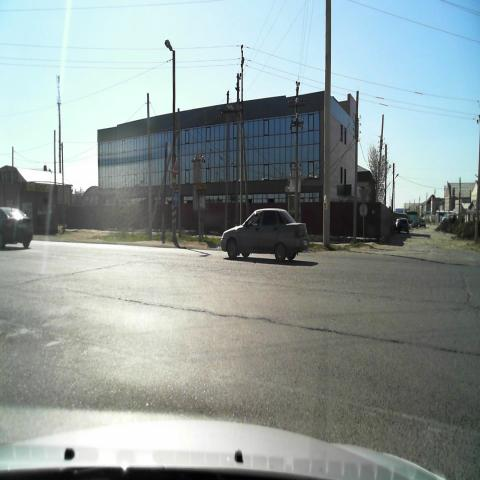1_23: (171, 159, 180, 175)
5_15_2_2: (172, 190, 179, 205)
